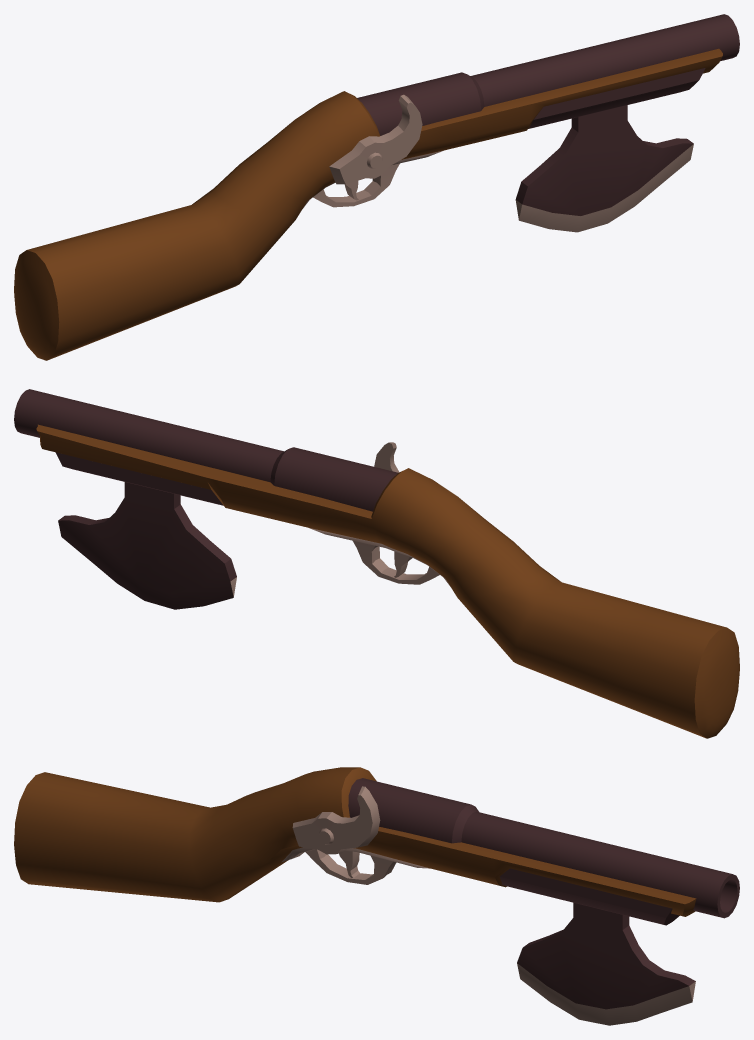
Rendered from quaternius-pirate-weapon-axerifle.glb.
The picture shows the model from 3 angles, top to bottom: view 1: azimuth 30°, elevation 25°; view 2: azimuth 150°, elevation 25°; view 3: azimuth 330°, elevation 25°; orthographic projection.
Parts seen in each view (by area): view 1: Weapon_AxeRifle; view 2: Weapon_AxeRifle; view 3: Weapon_AxeRifle.
Boxes of the visible parts, x1,y1,x2,y2 form: Weapon_AxeRifle: (14, 14, 739, 360); Weapon_AxeRifle: (14, 389, 739, 738); Weapon_AxeRifle: (14, 767, 739, 1025).
Size of the model in its own units: 2.32 by 0.6329 by 0.2821.
Materials: 1 (1 with a texture image).
